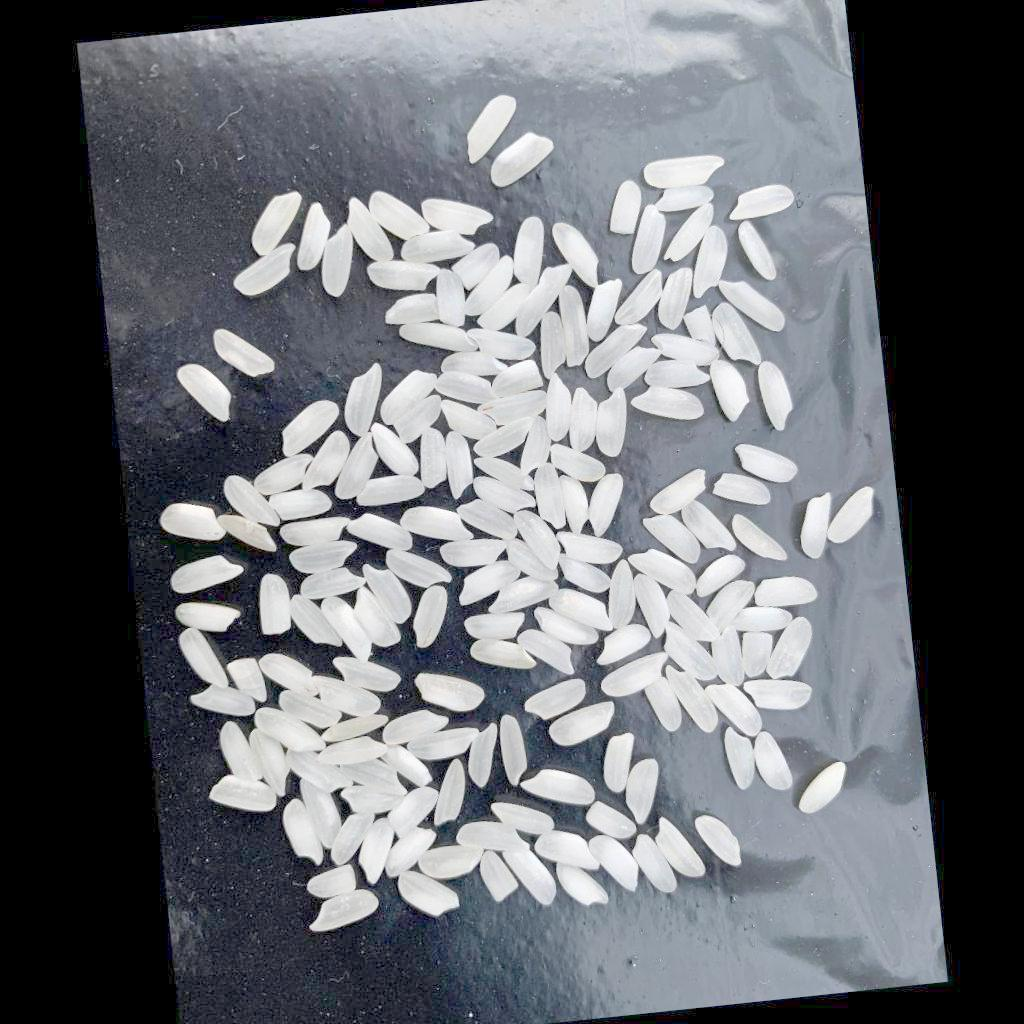rice: (510, 263, 580, 338), (462, 95, 523, 165), (253, 700, 327, 757), (719, 275, 786, 337), (487, 131, 558, 189), (581, 323, 651, 381), (628, 544, 698, 601), (247, 192, 307, 258), (278, 398, 344, 458), (231, 241, 301, 297), (666, 663, 719, 736), (663, 616, 719, 685), (322, 593, 374, 666), (212, 322, 276, 381), (710, 300, 763, 371), (177, 361, 234, 427), (286, 742, 354, 797), (341, 362, 389, 439), (704, 680, 763, 742), (312, 670, 381, 723), (378, 368, 441, 426), (503, 843, 558, 909), (552, 218, 602, 290), (660, 202, 719, 263), (369, 187, 432, 244), (330, 432, 382, 501), (761, 617, 817, 681), (224, 471, 282, 532), (641, 511, 702, 569), (297, 431, 355, 492), (521, 764, 595, 811), (178, 624, 229, 692), (655, 814, 706, 882), (398, 867, 461, 922), (598, 652, 673, 698), (548, 585, 613, 638), (422, 193, 495, 240), (401, 501, 474, 548), (157, 496, 227, 545), (822, 486, 879, 546), (679, 496, 736, 556), (460, 256, 517, 316), (347, 196, 395, 267), (416, 668, 487, 716), (532, 826, 601, 875), (363, 561, 414, 627), (731, 508, 789, 566), (399, 317, 479, 359), (547, 702, 619, 748), (456, 557, 525, 605), (169, 554, 246, 597), (508, 215, 551, 292), (288, 591, 342, 652), (208, 771, 278, 818), (331, 650, 401, 697), (248, 726, 293, 799), (687, 225, 732, 298), (306, 889, 380, 933), (631, 382, 705, 426), (280, 797, 325, 869), (668, 586, 722, 646), (589, 833, 640, 896), (301, 777, 345, 850), (611, 269, 667, 326), (517, 625, 575, 680), (534, 601, 599, 650), (626, 203, 670, 275), (352, 583, 400, 649), (514, 507, 562, 573), (484, 574, 561, 615), (705, 579, 761, 635), (260, 650, 320, 702), (646, 468, 711, 516), (348, 509, 414, 556), (386, 544, 453, 590), (795, 760, 851, 815), (316, 224, 357, 299), (386, 787, 444, 840), (643, 154, 726, 191), (281, 685, 346, 732), (370, 419, 420, 480), (456, 496, 518, 545), (292, 203, 336, 272), (582, 276, 628, 342), (556, 525, 625, 569), (592, 387, 634, 459), (382, 826, 441, 877), (368, 256, 443, 296), (474, 284, 534, 334), (219, 719, 265, 784), (328, 809, 380, 866), (735, 439, 798, 486), (457, 818, 531, 858), (441, 395, 499, 446), (654, 265, 698, 332), (631, 831, 677, 895), (217, 509, 278, 557), (756, 358, 795, 433), (585, 472, 630, 537), (428, 759, 471, 827), (470, 323, 538, 366), (474, 471, 536, 518), (606, 345, 665, 394), (478, 388, 550, 428), (504, 534, 560, 585), (404, 726, 483, 762), (742, 675, 813, 715), (522, 679, 588, 722), (468, 634, 537, 675), (696, 811, 743, 871), (252, 453, 316, 497), (398, 228, 476, 264), (474, 450, 535, 496), (555, 859, 610, 910), (390, 394, 445, 445), (559, 284, 592, 368), (380, 739, 434, 790), (448, 242, 503, 292), (796, 492, 837, 559), (594, 623, 655, 668), (288, 540, 360, 578), (726, 182, 796, 221), (549, 439, 607, 486), (634, 572, 674, 640), (492, 796, 555, 839), (190, 680, 256, 721), (623, 760, 664, 826), (736, 218, 777, 284), (471, 418, 537, 459), (557, 548, 611, 598), (711, 359, 752, 424), (410, 585, 452, 648), (175, 597, 242, 636), (600, 732, 642, 794), (693, 553, 749, 599), (464, 723, 503, 789), (416, 843, 485, 880), (753, 574, 820, 612), (753, 731, 794, 793), (356, 471, 428, 506), (564, 386, 601, 453), (711, 468, 770, 510), (314, 734, 389, 767), (298, 566, 368, 601), (604, 179, 646, 237), (584, 796, 638, 841), (541, 372, 576, 441), (516, 415, 556, 475), (319, 712, 391, 745), (604, 559, 638, 628), (533, 461, 567, 530), (643, 357, 712, 390), (441, 348, 510, 381), (439, 536, 508, 569), (443, 429, 475, 500), (279, 517, 352, 548), (724, 725, 758, 791), (258, 573, 293, 637), (500, 712, 530, 786), (490, 359, 544, 400), (269, 487, 334, 521), (711, 624, 746, 687), (537, 311, 568, 382), (481, 849, 520, 905), (645, 676, 683, 733), (383, 293, 443, 329), (416, 426, 449, 489), (559, 472, 591, 536), (464, 610, 525, 643), (228, 656, 268, 705), (436, 266, 467, 329), (653, 183, 718, 213), (305, 864, 358, 899), (741, 631, 776, 679)
